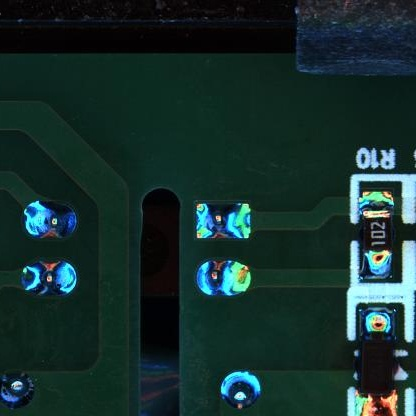spot: (22, 200, 77, 238), (193, 260, 250, 295), (197, 204, 250, 239), (23, 261, 77, 295), (219, 370, 262, 408), (1, 368, 34, 408)
